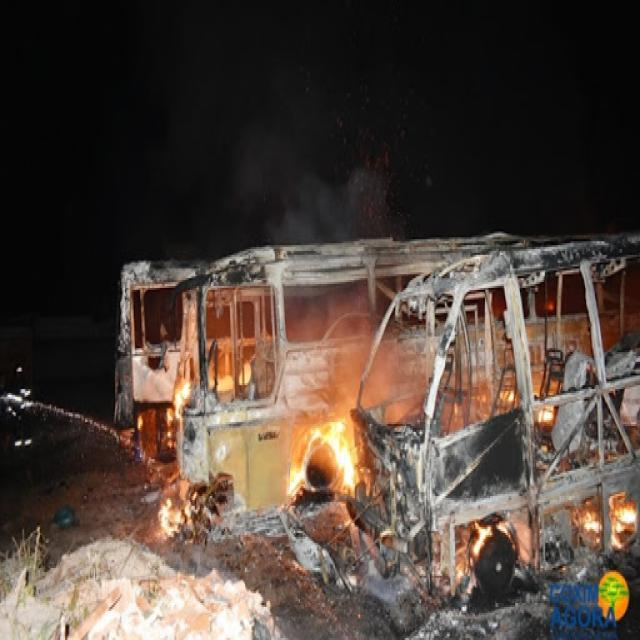Fire: (288, 422, 364, 494), (606, 502, 635, 548), (158, 506, 188, 541), (470, 522, 491, 554), (175, 381, 191, 422), (580, 509, 600, 532), (136, 410, 146, 430)
Smoke: (146, 16, 426, 433)
